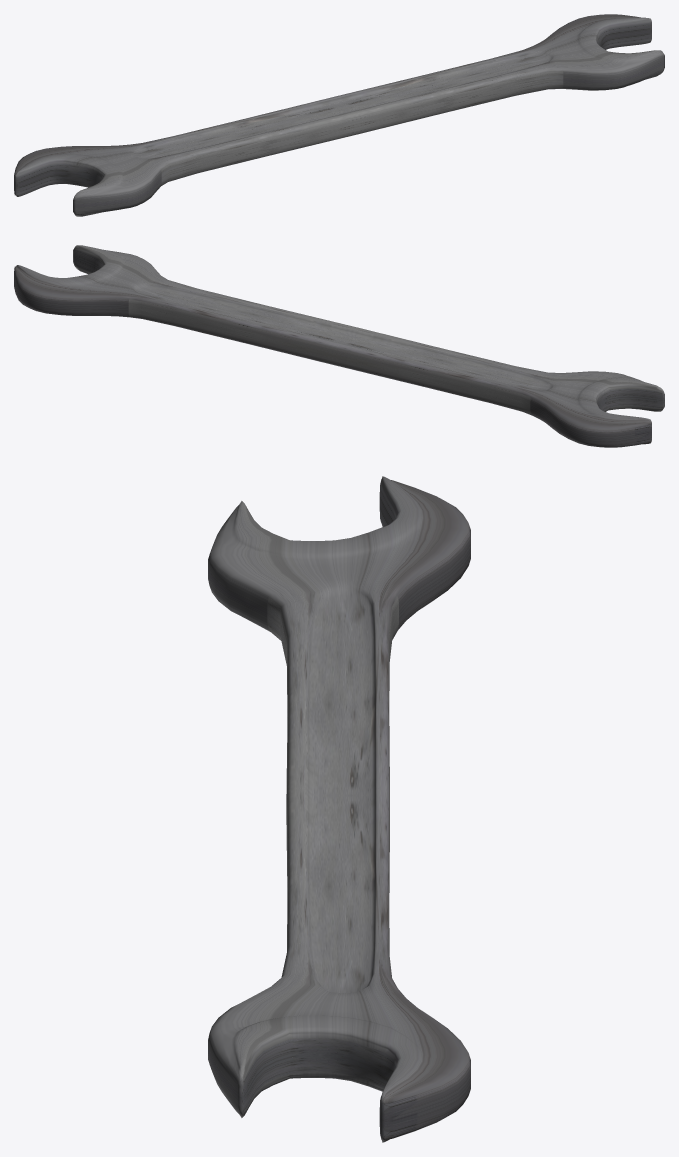
File: wrench.glb
3 renders of one model, top to bottom at view 1: azimuth 30°, elevation 25°; view 2: azimuth 150°, elevation 25°; view 3: azimuth 270°, elevation 25°, orthographic. The views are drawn at different scales.
Parts seen in each view (by area): view 1: wrench; view 2: wrench; view 3: wrench.
Part boxes in pixels (<box>): wrench: <box>14,14,664,216</box>; wrench: <box>14,245,664,447</box>; wrench: <box>208,476,470,1142</box>.
Size of the model in its own units: 11.5 by 0.4476 by 2.05.
1 material, 1 textured.
